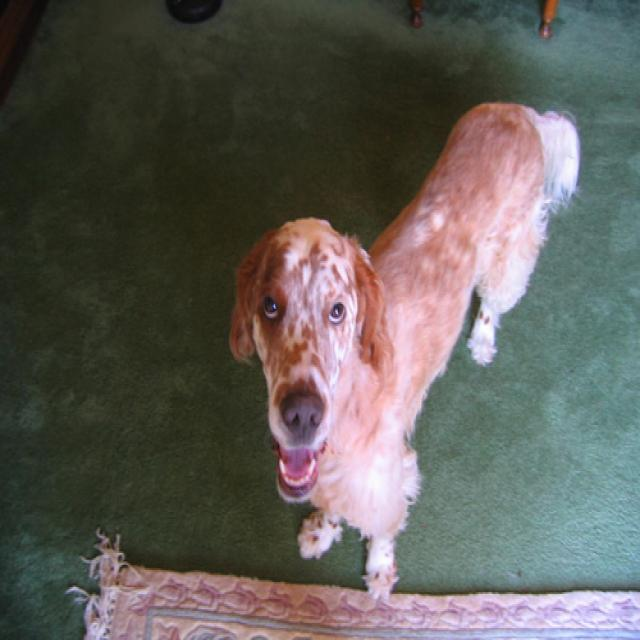dog-english_setter: (224, 97, 584, 601)
